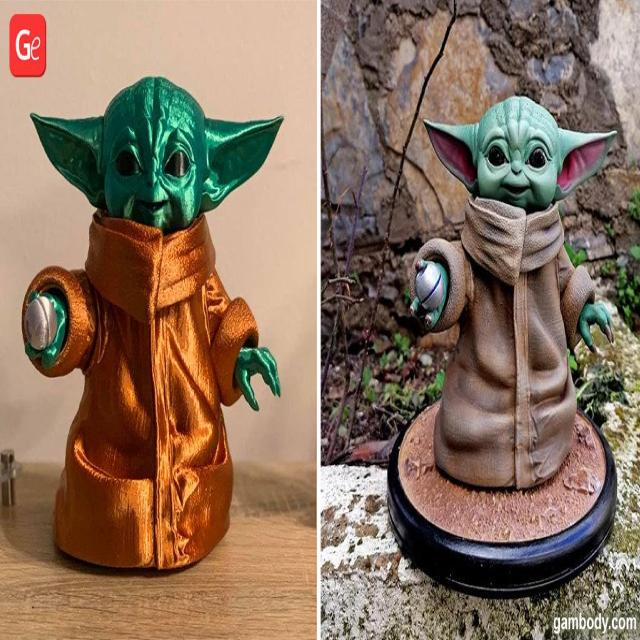Without deffect: (386, 92, 638, 610)
